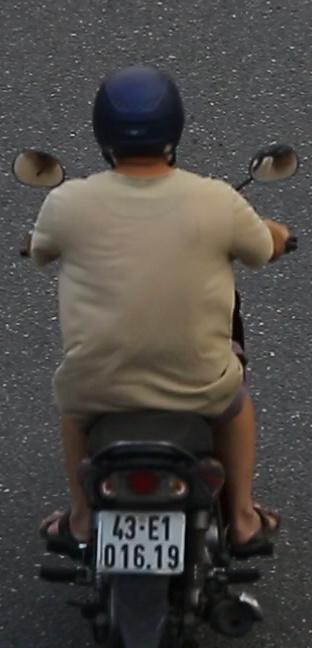LP: (92, 504, 190, 582)
helmet: (87, 61, 190, 186)
